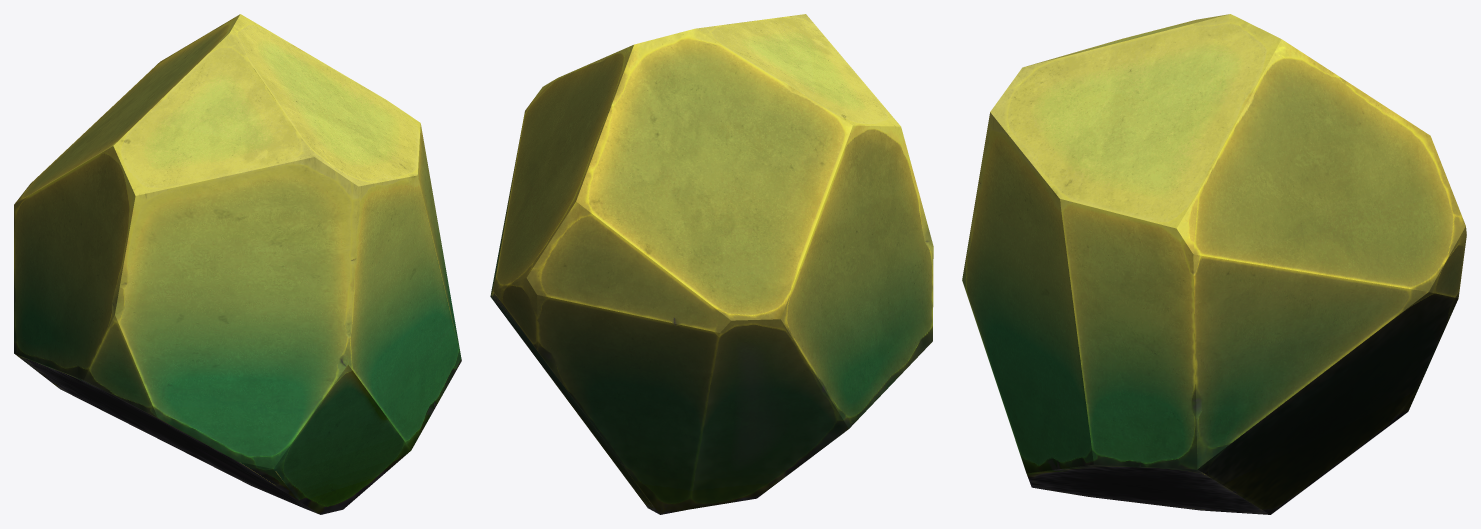
File: M_rocks_03.glb
The picture shows the model from 3 angles, left to right: view 1: azimuth 30°, elevation 25°; view 2: azimuth 150°, elevation 25°; view 3: azimuth 270°, elevation 25°; orthographic projection. The views are drawn at different scales.
Parts seen in each view (by area): view 1: M_Rock_03; view 2: M_Rock_03; view 3: M_Rock_03.
Part boxes in pixels (x1,y1,x2,y2): M_Rock_03: (14, 14, 461, 514); M_Rock_03: (490, 14, 933, 514); M_Rock_03: (962, 14, 1466, 514).
Bounding box in the file's own units: 1.62 × 1.77 × 1.64.
1 material, 1 textured.
